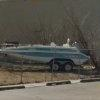Boat: (3, 26, 89, 78)
